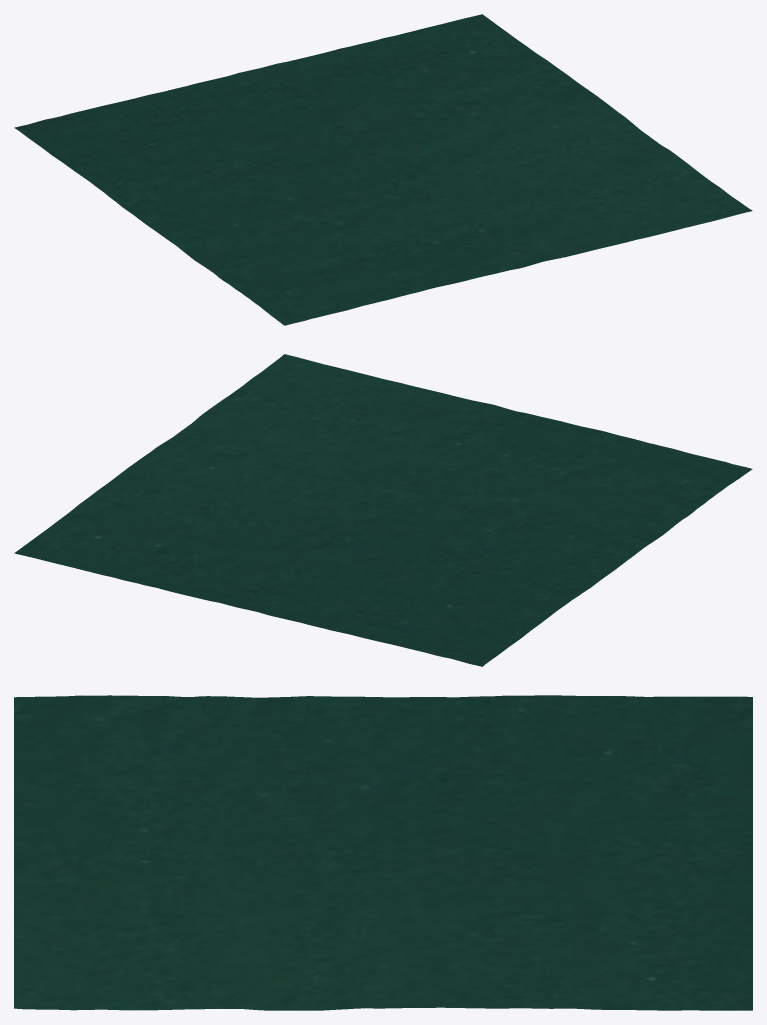
3 renders of one model, top to bottom at view 1: azimuth 30°, elevation 25°; view 2: azimuth 150°, elevation 25°; view 3: azimuth 270°, elevation 25°, orthographic. The views are drawn at different scales.
Bounding box in the file's own units: 104 × 0.8014 × 104.
Materials: 2 (2 with a texture image).
